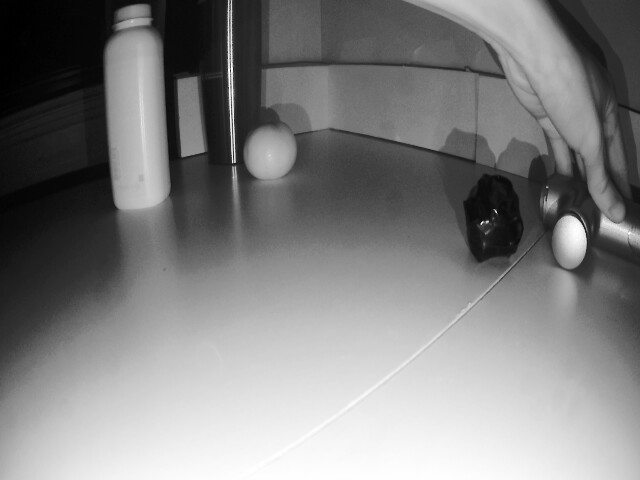black: (458, 173, 532, 273)
